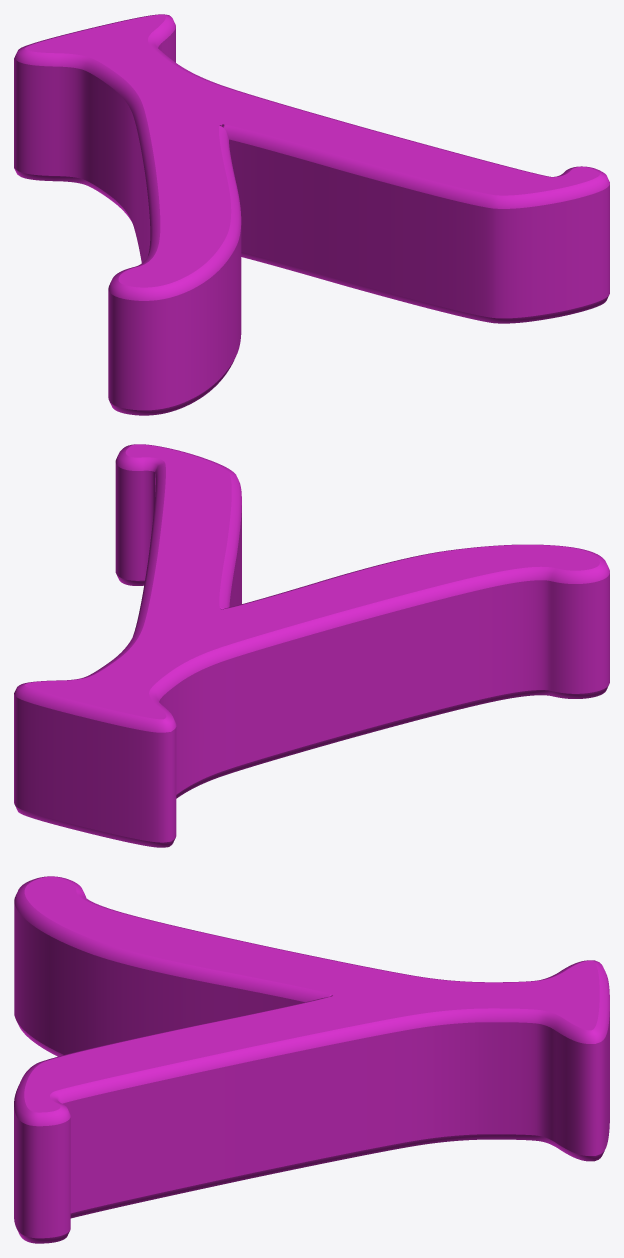
Rendered from Letter_Y.fbx.
3 renders of one model, top to bottom at view 1: azimuth 30°, elevation 25°; view 2: azimuth 150°, elevation 25°; view 3: azimuth 270°, elevation 25°, orthographic. The views are drawn at different scales.
Parts seen in each view (by area): view 1: Letter_Y; view 2: Letter_Y; view 3: Letter_Y.
Part boxes in pixels (<box>): Letter_Y: <box>14,14,609,415</box>; Letter_Y: <box>14,444,609,847</box>; Letter_Y: <box>14,876,609,1243</box>.
Bounding box in the file's own units: 0.5616 × 0.14 × 0.5784.
